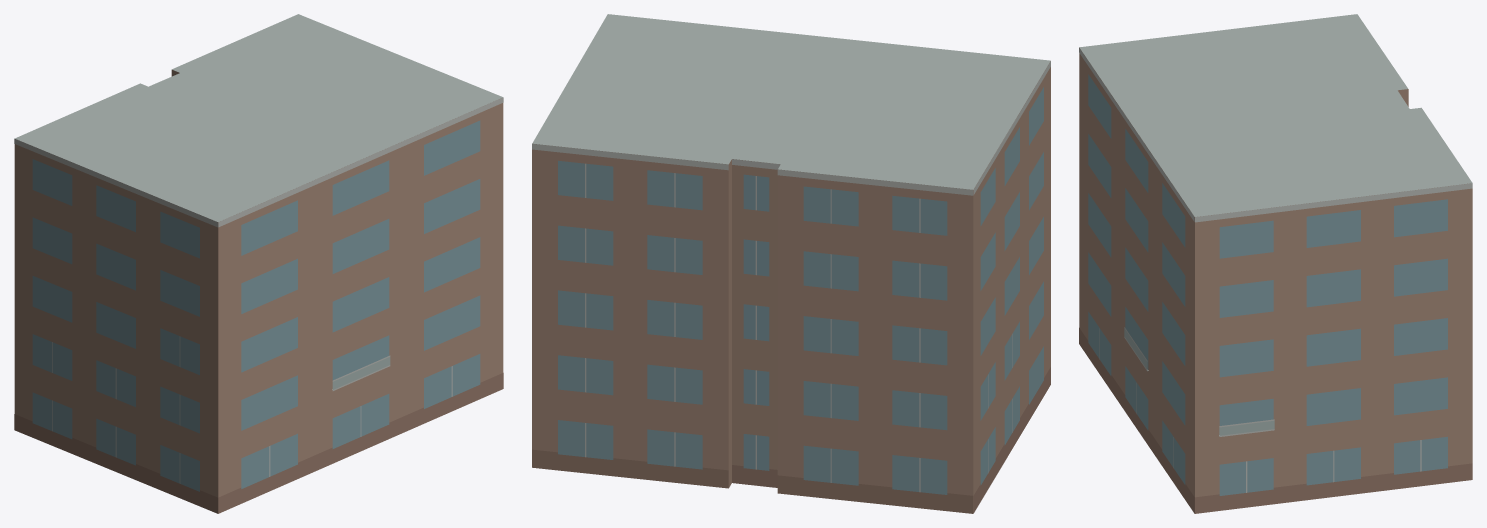
File: survey-upis-32720572.glb
The picture shows the model from 3 angles, left to right: view 1: azimuth 30°, elevation 25°; view 2: azimuth 150°, elevation 25°; view 3: azimuth 270°, elevation 25°; orthographic projection. The views are drawn at different scales.
Parts seen in each view (by area): view 1: survey-upis-32720572.tmp; view 2: survey-upis-32720572.tmp; view 3: survey-upis-32720572.tmp.
Boxes of the visible parts, <box> form: survey-upis-32720572.tmp: <box>14,14,503,513</box>; survey-upis-32720572.tmp: <box>532,14,1050,513</box>; survey-upis-32720572.tmp: <box>1079,14,1472,513</box>.
Bounding box in the file's own units: 19.68 × 13.4 × 16.11.
